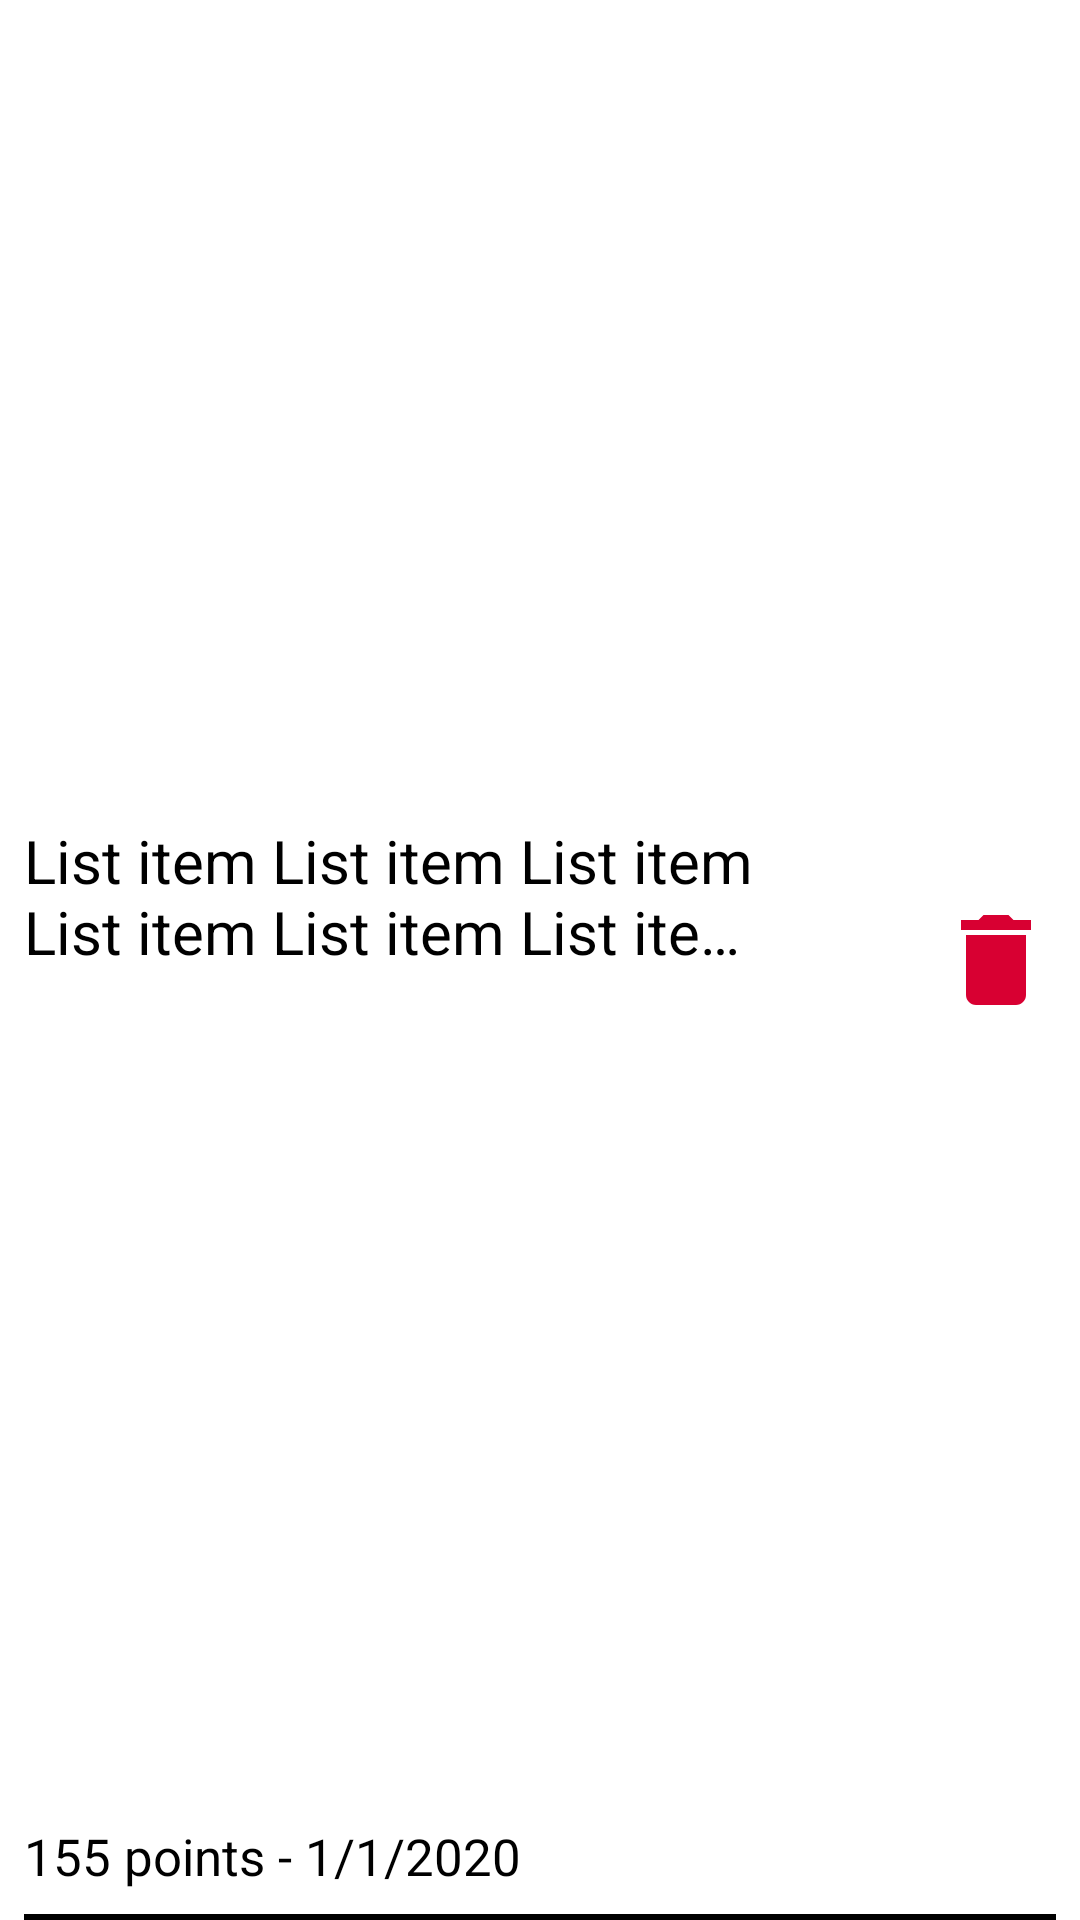

Where to tap for icons on this 1080 x 1920 app screen, as [x,y]:
delete: [996,960]
